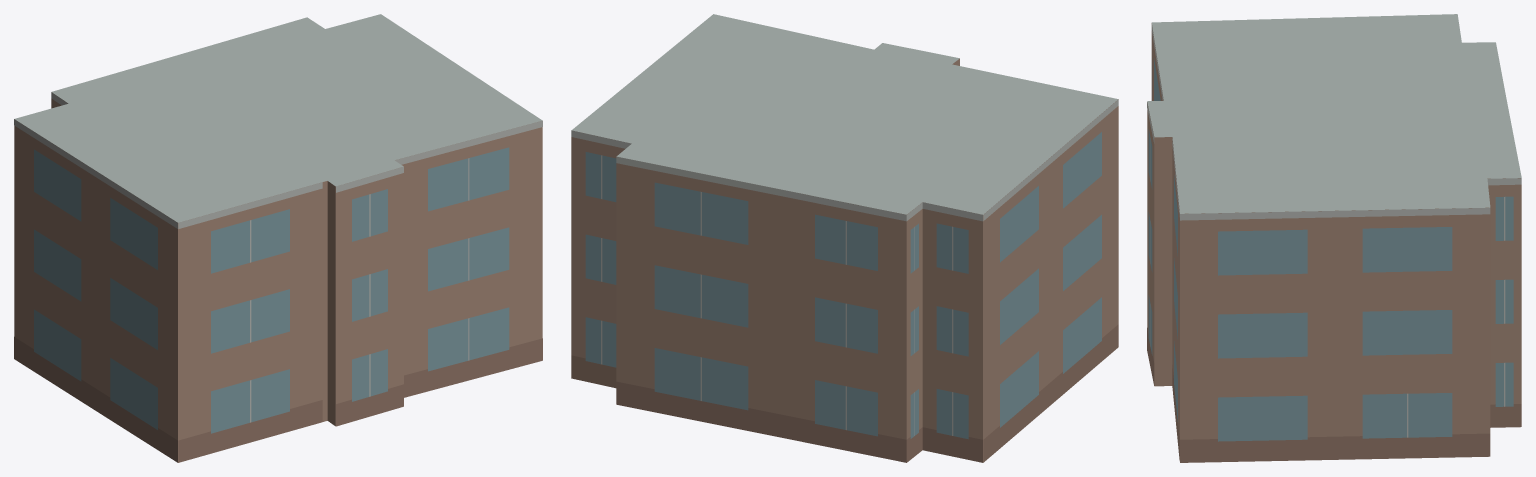
The model's file is survey-upis-32923204.glb.
3 renders of one model, left to right at view 1: azimuth 30°, elevation 25°; view 2: azimuth 150°, elevation 25°; view 3: azimuth 270°, elevation 25°, orthographic. The views are drawn at different scales.
Visible parts, largest first — view 1: survey-upis-32923204.tmp; view 2: survey-upis-32923204.tmp; view 3: survey-upis-32923204.tmp.
Part boxes in pixels (x1,y1,x2,y2): survey-upis-32923204.tmp: [14, 14, 542, 462]; survey-upis-32923204.tmp: [571, 14, 1118, 462]; survey-upis-32923204.tmp: [1147, 14, 1521, 462].
Size of the model in its own units: 15.76 by 9.15 by 12.49.
